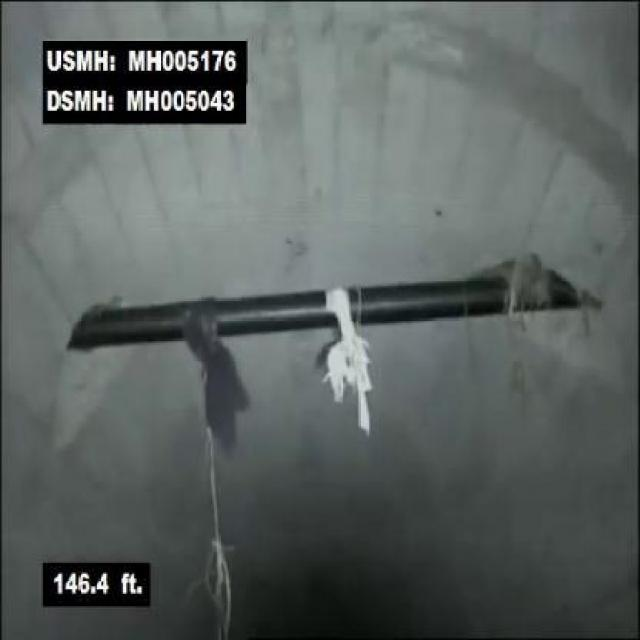Utility intrusion: (52, 255, 586, 354)
